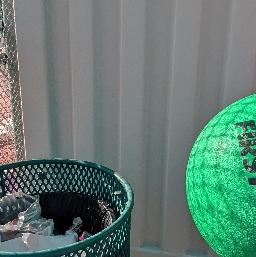algae: (184, 89, 256, 257)
